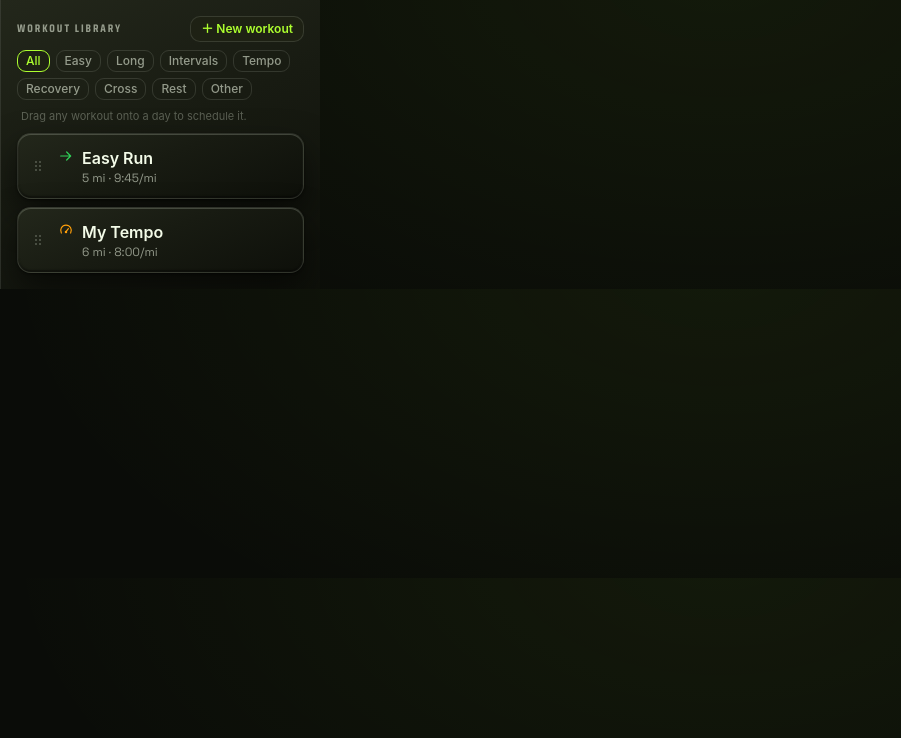
type quick-filters narrow the list to one workout type
The image size is (901, 738).
Expected: the text "Easy Run" is shown, [82,148,153,168]
Expected: the text "My Tempo" is shown, [82,222,163,242]
Click the button "Tempo": (262, 61) [233,50,290,72]
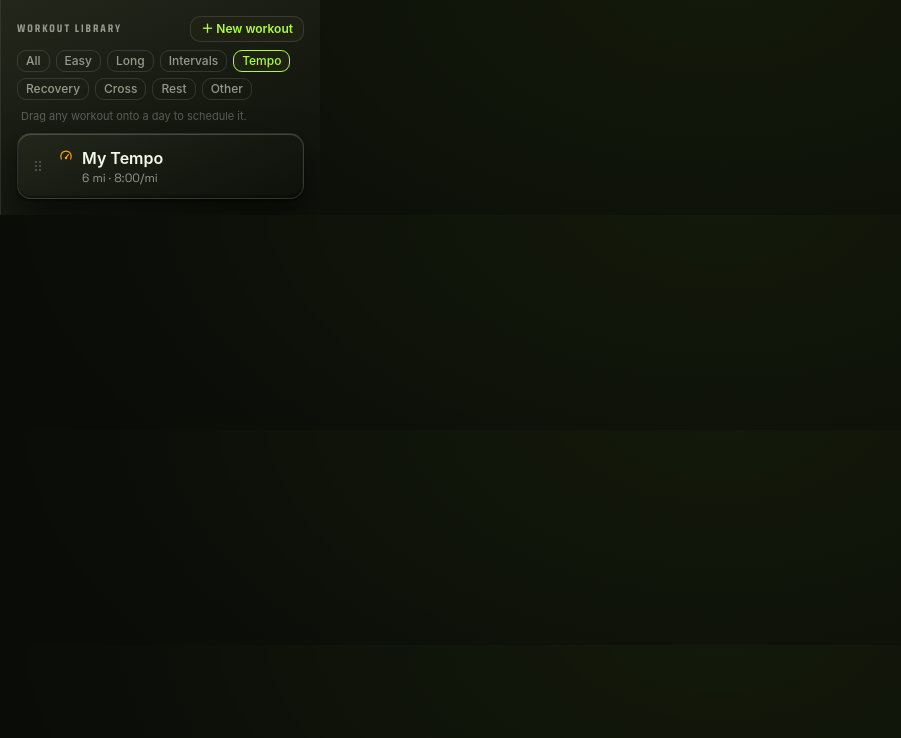
Expected: the text "My Tempo" is shown, [82,148,163,168]
Result: the button "Easy Run" is gone
